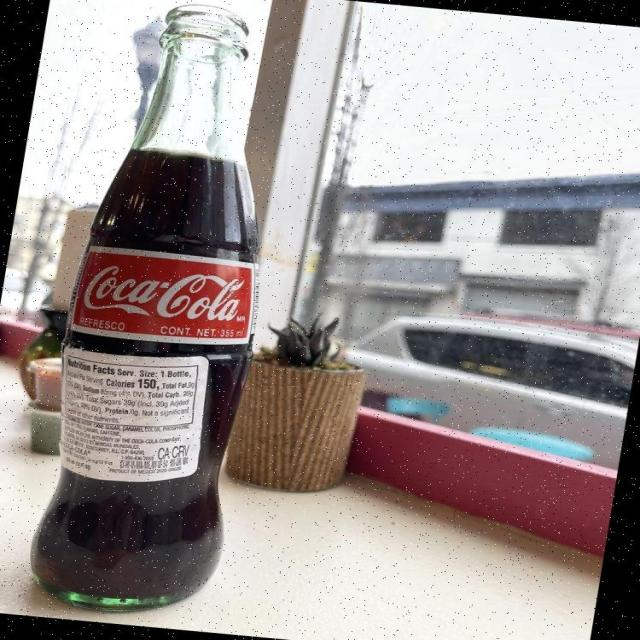coca-cola: (12, 0, 323, 616)
